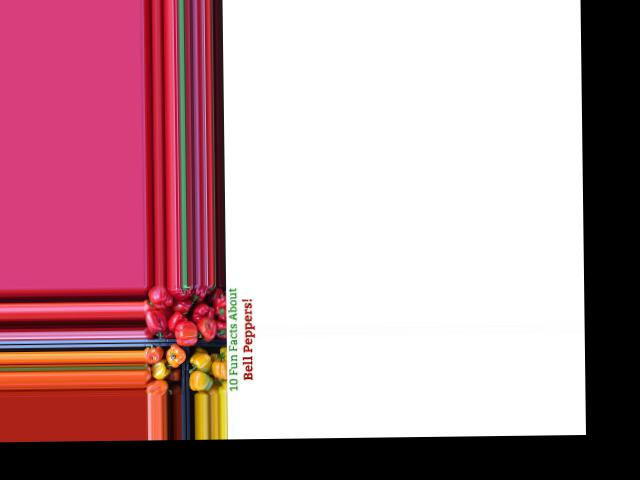bell_pepper: (209, 295, 229, 326)
